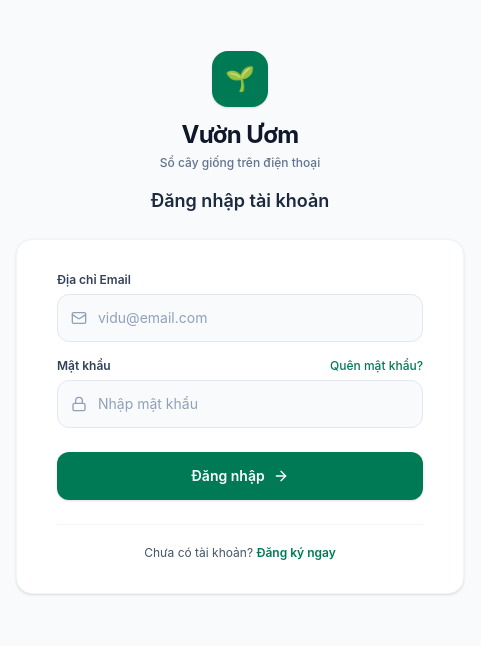
Scenario: Auth Screens UX & Flow › LoginScreen › shows validation error when fields are empty
Click the button "Đăng nhập": click(240, 476) x1=57 y1=452 x2=423 y2=500
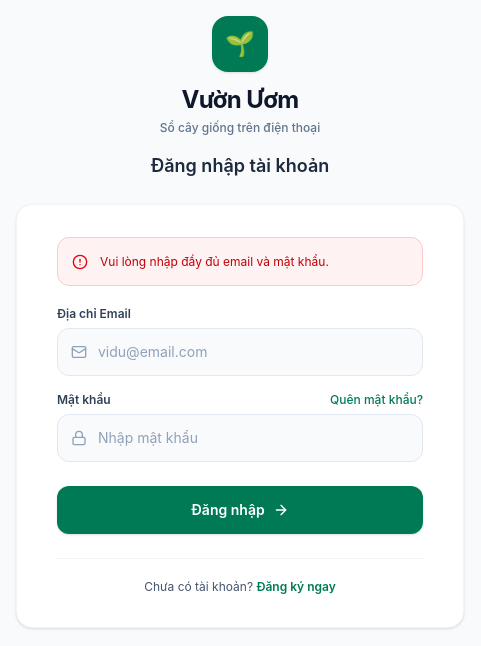
Expected: the message reads "Vui lòng nhập đầy đủ email và mật khẩu.", x1=100 y1=254 x2=329 y2=269
